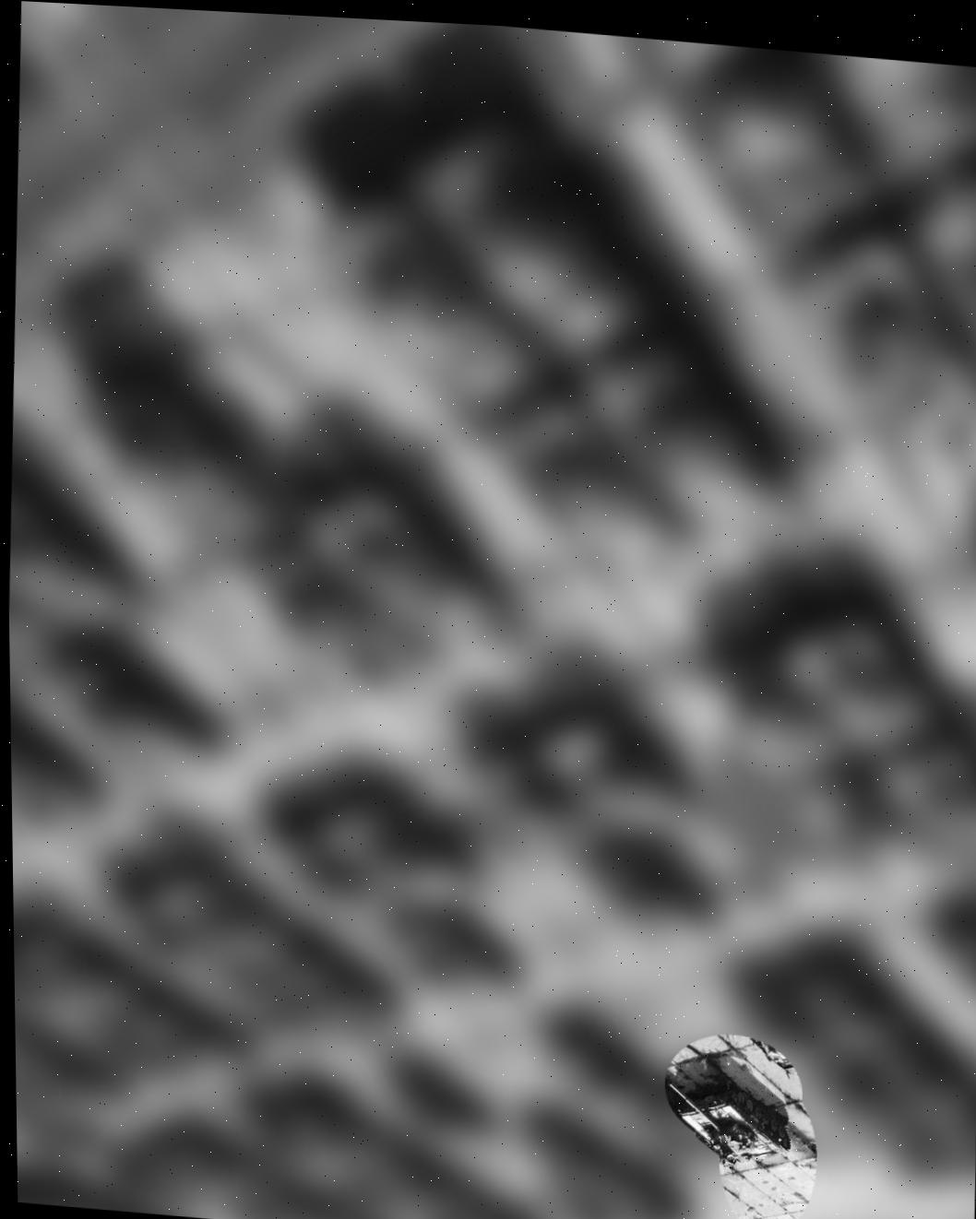tank: (660, 1028, 821, 1219)
